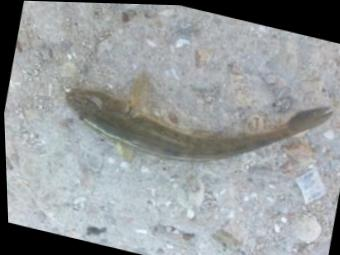fish: (65, 73, 331, 161)
